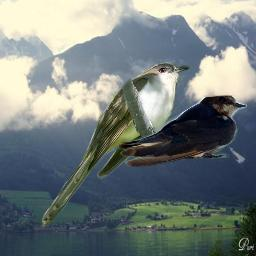Cuckoo: (39, 61, 191, 231)
Swallow: (118, 95, 247, 167)
